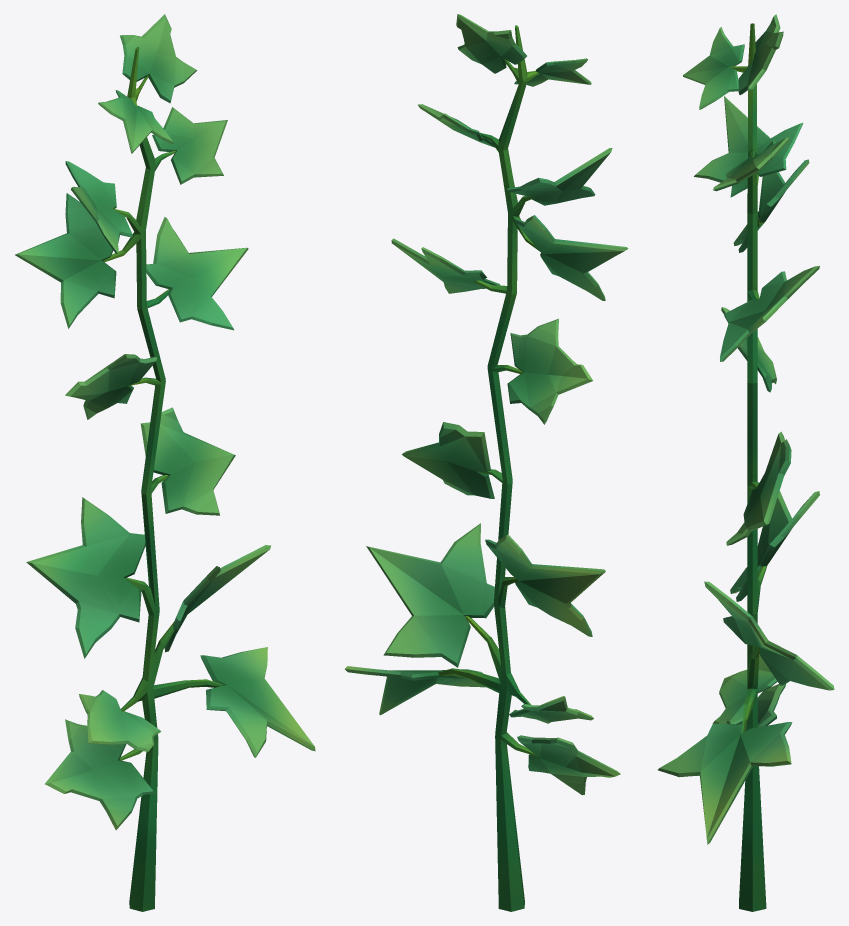
3 views of the same model, side by side, from view 1: azimuth 30°, elevation 25°; view 2: azimuth 150°, elevation 25°; view 3: azimuth 270°, elevation 25° (orthographic). The views are drawn at different scales.
Visible parts, largest first — view 1: Ivy_mesh; view 2: Ivy_mesh; view 3: Ivy_mesh.
Part boxes in pixels (bbox=[...]): Ivy_mesh: bbox=[15, 14, 315, 911]; Ivy_mesh: bbox=[345, 14, 628, 911]; Ivy_mesh: bbox=[658, 14, 834, 911].
Bounding box in the file's own units: 3.31 × 10.11 × 1.82.
1 material, 1 textured.
